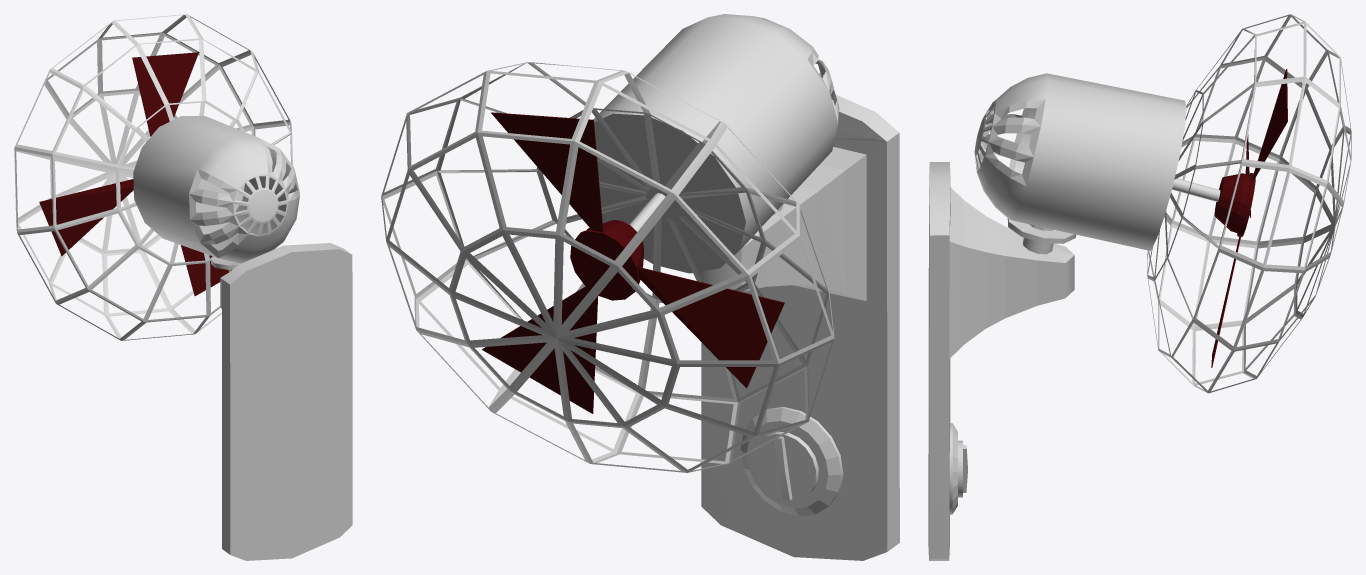
File: fan grid.fbx
3 renders of one model, left to right at view 1: azimuth 30°, elevation 25°; view 2: azimuth 150°, elevation 25°; view 3: azimuth 270°, elevation 25°, orthographic. The views are drawn at different scales.
Visible parts, largest first — view 1: fan base, metal, metal.001, Cylinder005; view 2: fan base, metal.001, metal, Cylinder005, fan base.001; view 3: metal, fan base, metal.001, Cylinder005, fan base.001.
Boxes of the visible parts, x1,y1,x2,y2 form: fan base: (220,243,352,560); metal: (133,116,299,272); metal.001: (14,14,292,340); Cylinder005: (39,52,228,295); fan base: (699,95,899,560); metal.001: (381,62,834,472); metal: (593,14,839,273); Cylinder005: (482,112,784,413); fan base.001: (740,407,843,516); metal: (974,73,1220,254); fan base: (928,162,1074,560); metal.001: (1147,14,1351,393); Cylinder005: (1211,69,1287,367); fan base.001: (949,423,967,514).
Size of the model in its own units: 33.83 by 48.22 by 36.3.
